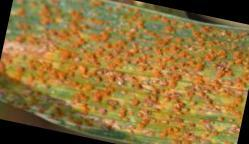Wheat: (17, 81, 204, 108), (109, 110, 201, 144), (143, 18, 183, 77), (186, 28, 233, 78), (17, 50, 98, 77), (100, 41, 142, 78)
